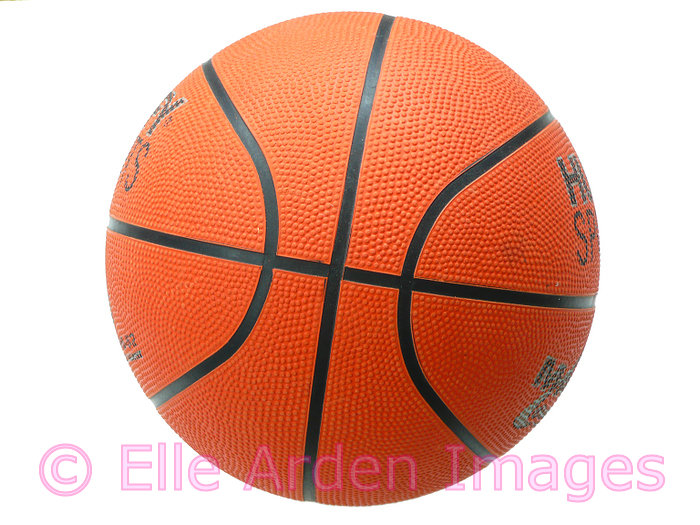basketball: (104, 9, 603, 506)
